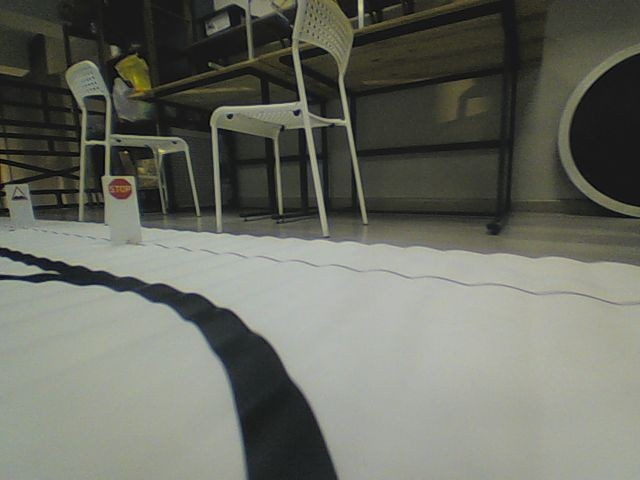Nerov: (10, 185, 27, 202)
Stop: (107, 177, 133, 200)
